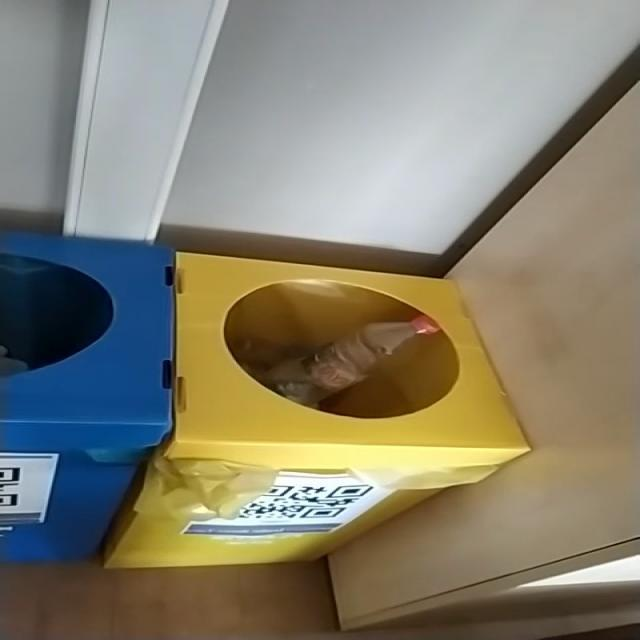Plastic: (363, 323, 417, 355)
